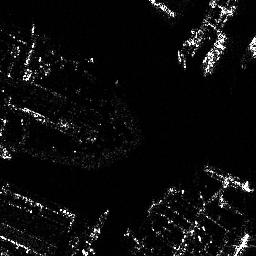ship: (203, 163, 253, 193), (180, 36, 209, 68), (204, 43, 227, 77), (148, 1, 177, 19)
